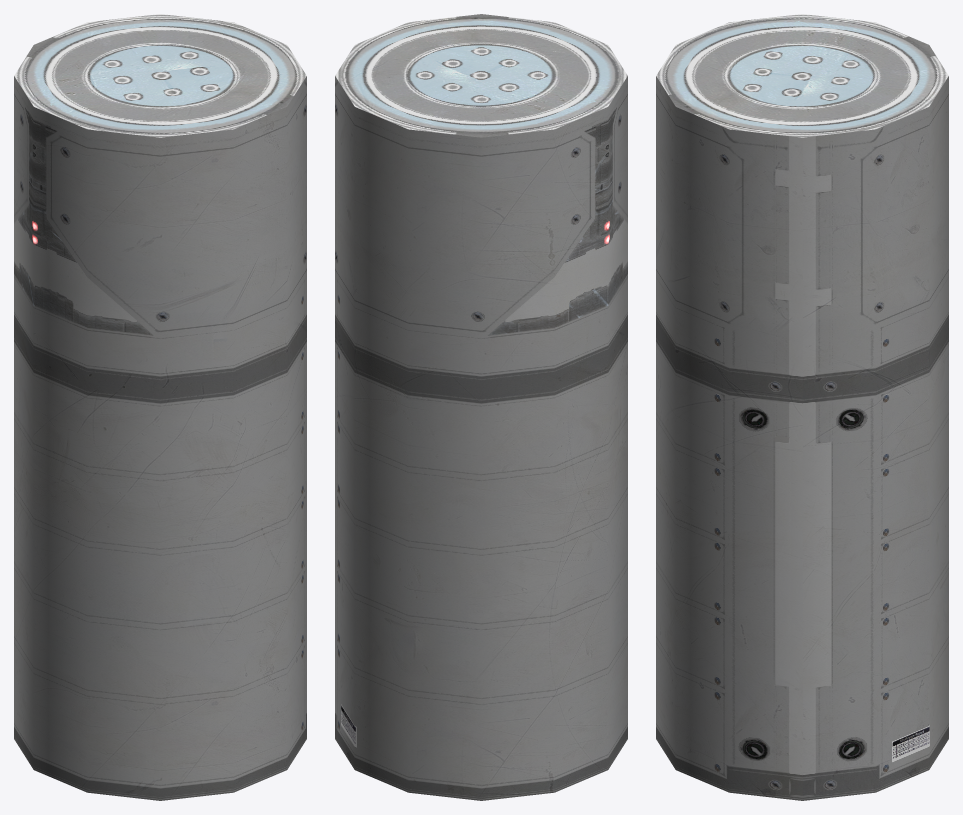
File: SM_RambHose4.fbx
3 views of the same model, side by side, from view 1: azimuth 30°, elevation 25°; view 2: azimuth 150°, elevation 25°; view 3: azimuth 270°, elevation 25° (orthographic).
Parts seen in each view (by area): view 1: SM_RambHose4_LOD0; view 2: SM_RambHose4_LOD0; view 3: SM_RambHose4_LOD0.
Part boxes in pixels (<box>): SM_RambHose4_LOD0: <box>14,14,306,800</box>; SM_RambHose4_LOD0: <box>335,14,627,800</box>; SM_RambHose4_LOD0: <box>656,14,948,800</box>.
Size of the model in its own units: 20 by 20 by 50.
2 materials, 2 textured.
